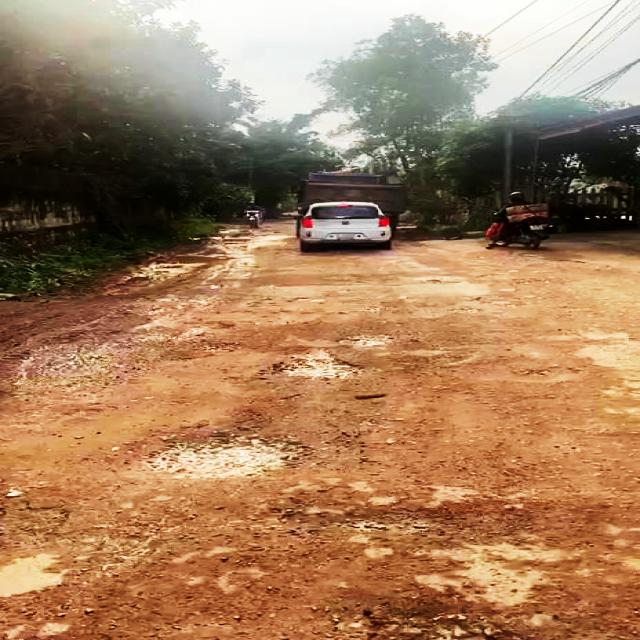pothole: (146, 427, 324, 481), (336, 605, 540, 640), (0, 494, 80, 552), (462, 355, 577, 385), (272, 349, 364, 384), (166, 321, 238, 358), (334, 332, 405, 349)
